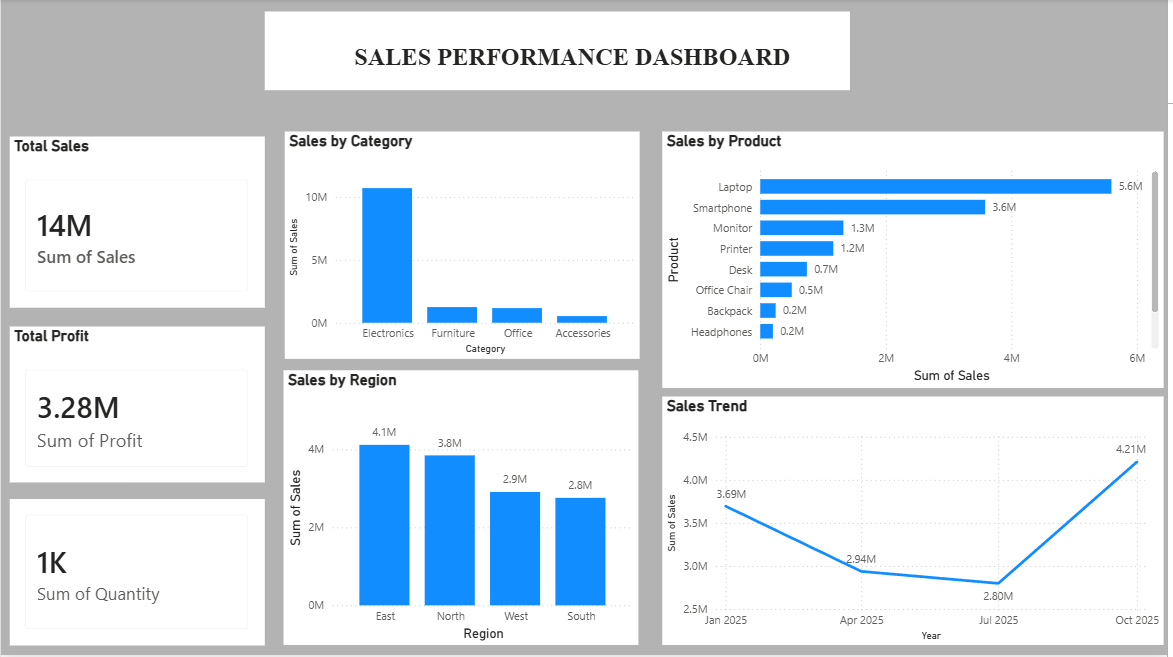

The dashboard page shown, as its layout file describes it:
{"tool":"powerbi","page":{"name":"Page 1","canvas":[1280,720],"ordinal":0},"visuals":[{"type":"cardVisual","title":"Total Sales","fields":{"Data":["Sum(Sales Data.Sales)"]},"box":[9.6,150.9,279.9,188],"z":0},{"type":"cardVisual","title":"Total Profit","fields":{"Data":["Sum(Sales Data.Profit)"]},"box":[9.6,359.5,279.9,171.5],"z":1000},{"type":"cardVisual","fields":{"Data":["Sum(Sales Data.Quantity)"]},"box":[9.6,548.9,279.9,160.5],"z":2000},{"type":"clusteredColumnChart","title":"Sales by Category","fields":{"Category":["Sales Data.Category"],"Y":["Sum(Sales Data.Sales)"]},"box":[311.5,145.5,389.7,249.7],"z":3000},{"type":"clusteredColumnChart","title":"Sales by Region","fields":{"Y":["Sum(Sales Data.Sales)"],"Category":["Sales Data.Region"]},"box":[310.1,407.5,389.7,301.9],"z":4000},{"type":"clusteredBarChart","title":" Sales by Product","fields":{"Category":["Sales Data.Product"],"Y":["Sum(Sales Data.Sales)"]},"box":[725.9,145.5,550.3,281.3],"z":5000},{"type":"lineChart","title":"Sales Trend","fields":{"Category":["Sales Data.Order Date.Variation.Date Hierarchy.Year","Sales Data.Order Date.Variation.Date Hierarchy.Quarter","Sales Data.Order Date.Variation.Date Hierarchy.Month","Sales Data.Order Date.Variation.Date Hierarchy.Day"],"Y":["Sum(Sales Data.Sales)"]},"box":[725.9,436.4,550.3,273.1],"z":6000},{"type":"textbox","box":[289.5,13.7,642.2,86.4],"z":7000}]}

Visuals, with their boxes in screenshot pixels (x1, y1, x2, y2), scaled from the page's 1280x720 canvas onto the 1173x657 screenshot:
"Total Sales" cardVisual: rect(9, 138, 265, 309)
"Total Profit" cardVisual: rect(9, 328, 265, 485)
cardVisual - Sum(Sales Data.Quantity): rect(9, 501, 265, 647)
"Sales by Category" clusteredColumnChart: rect(285, 133, 643, 361)
"Sales by Region" clusteredColumnChart: rect(284, 372, 641, 647)
" Sales by Product" clusteredBarChart: rect(665, 133, 1170, 389)
"Sales Trend" lineChart: rect(665, 398, 1170, 647)
textbox: rect(265, 13, 854, 91)
